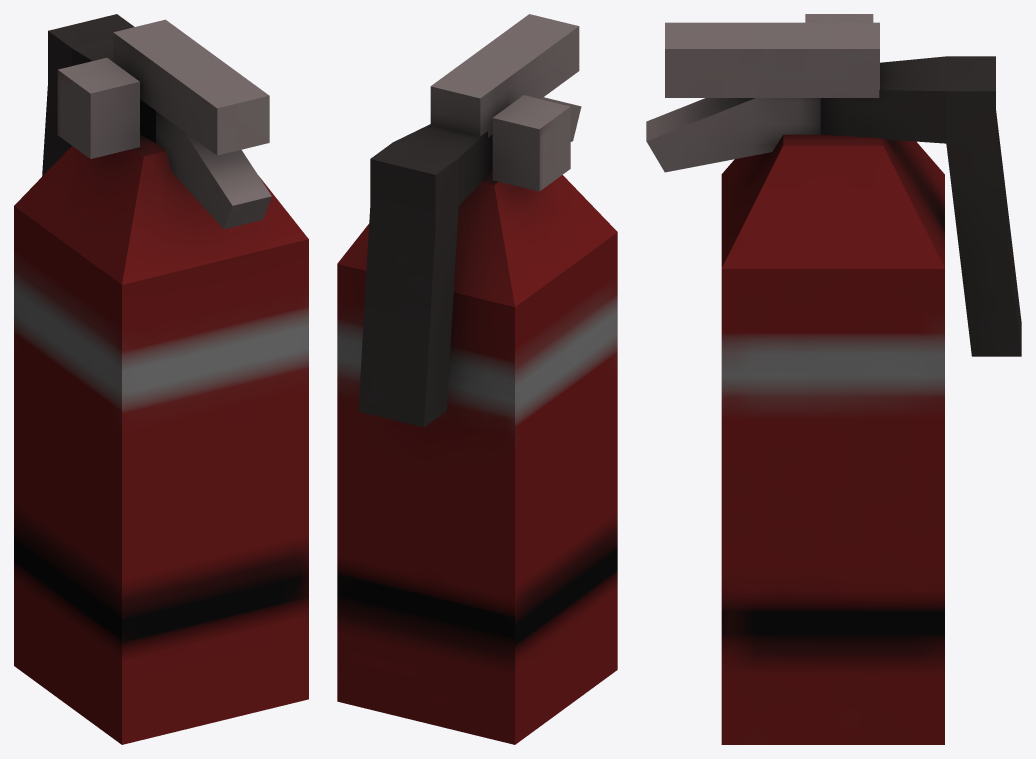
Rendered from Fire_Extingquisher.fbx.
3 views of the same model, side by side, from view 1: azimuth 30°, elevation 25°; view 2: azimuth 150°, elevation 25°; view 3: azimuth 270°, elevation 25° (orthographic). The views are drawn at different scales.
Visible parts, largest first — view 1: Box005; view 2: Box005; view 3: Box005.
Part boxes in pixels (bbox=[...]): Box005: bbox=[14, 14, 308, 744]; Box005: bbox=[337, 14, 617, 744]; Box005: bbox=[646, 14, 1021, 744].
Bounding box in the file's own units: 8.85 × 28.96 × 14.86.
